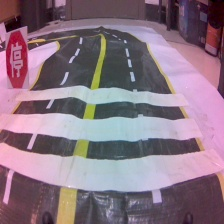stop: (5, 26, 29, 91)
